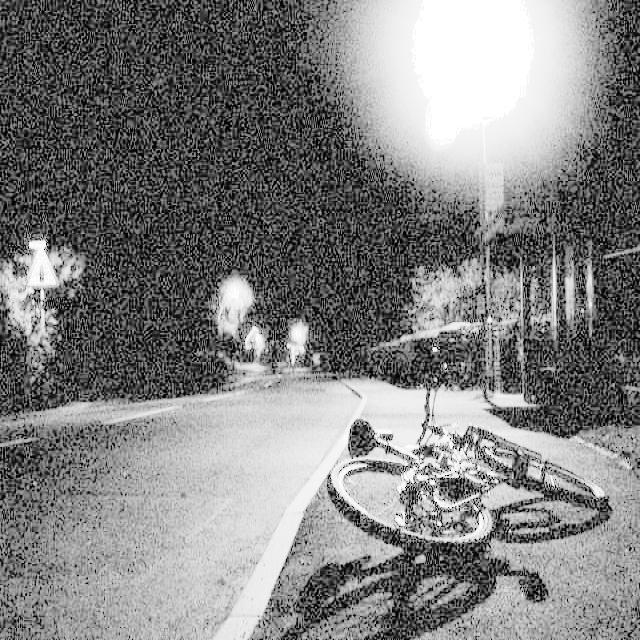Bicycle: (346, 295, 581, 587)
